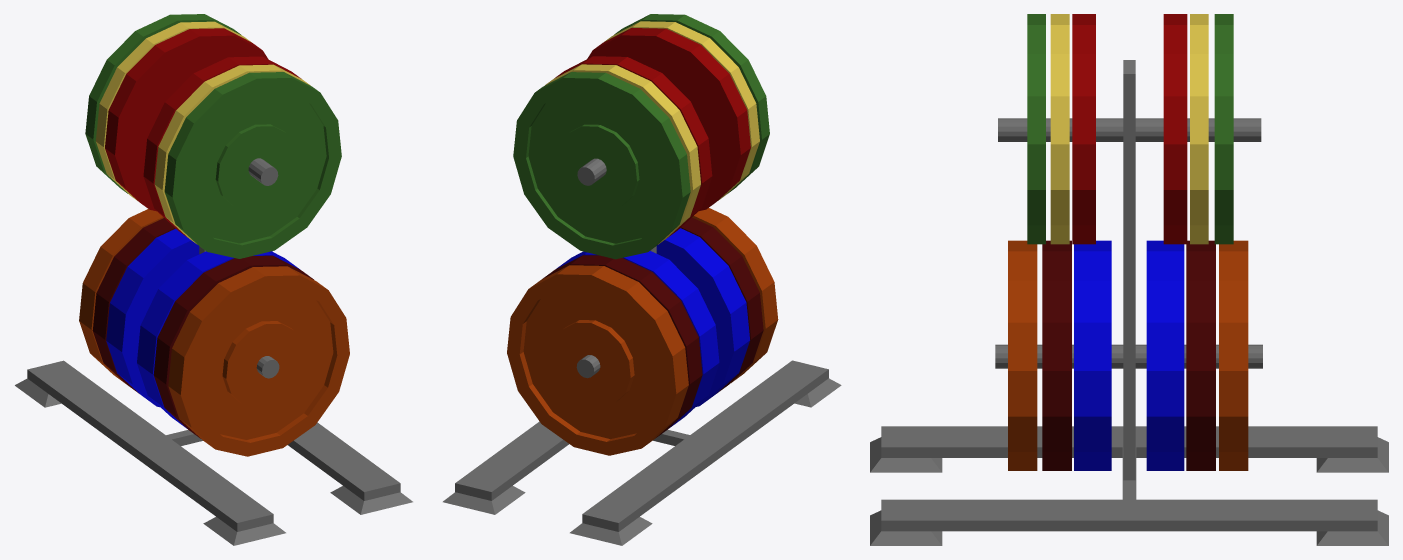
Rendered from ColorfulPlateRack.fbx.
The picture shows the model from 3 angles, left to right: view 1: azimuth 30°, elevation 25°; view 2: azimuth 150°, elevation 25°; view 3: azimuth 270°, elevation 25°; orthographic projection. The views are drawn at different scales.
Parts seen in each view (by area): view 1: ColorfulPlateRack; view 2: ColorfulPlateRack; view 3: ColorfulPlateRack.
Boxes of the visible parts, bbox=[...] form: ColorfulPlateRack: bbox=[15, 14, 412, 545]; ColorfulPlateRack: bbox=[443, 14, 841, 545]; ColorfulPlateRack: bbox=[870, 14, 1388, 545].
Bounding box in the file's own units: 47.29 × 99.71 × 99.92.
